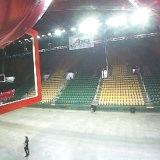Orange_Square_GShape: (0, 27, 39, 115)
